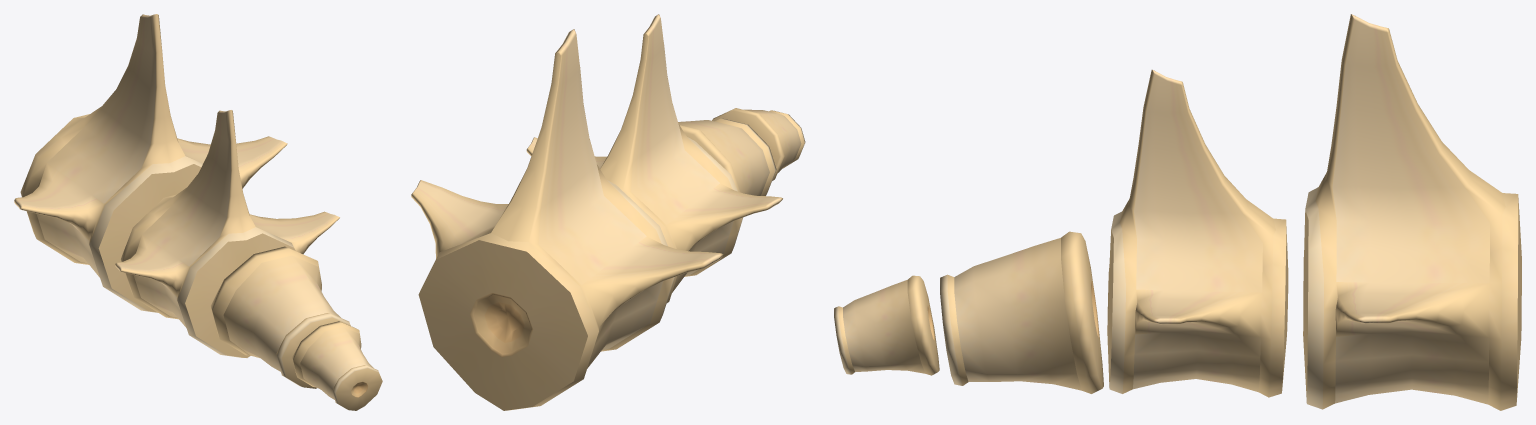
File: SpineChunk5.fbx
The picture shows the model from 3 angles, left to right: view 1: azimuth 30°, elevation 25°; view 2: azimuth 150°, elevation 25°; view 3: azimuth 270°, elevation 25°; orthographic projection. The views are drawn at different scales.
Visible parts, largest first — view 1: polySurface11; view 2: polySurface11; view 3: polySurface11.
Boxes of the visible parts, x1,y1,x2,y2 form: polySurface11: [14, 14, 382, 410]; polySurface11: [411, 14, 805, 410]; polySurface11: [834, 14, 1521, 410].
Bounding box in the file's own units: 0.9731 × 1.03 × 1.63.
